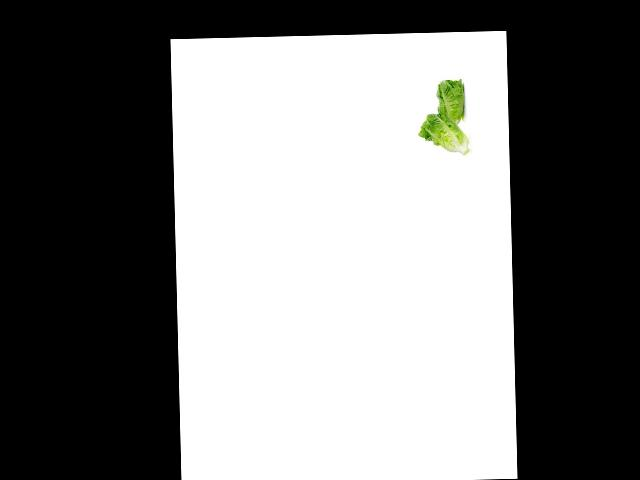lettuce: (419, 107, 473, 157)
